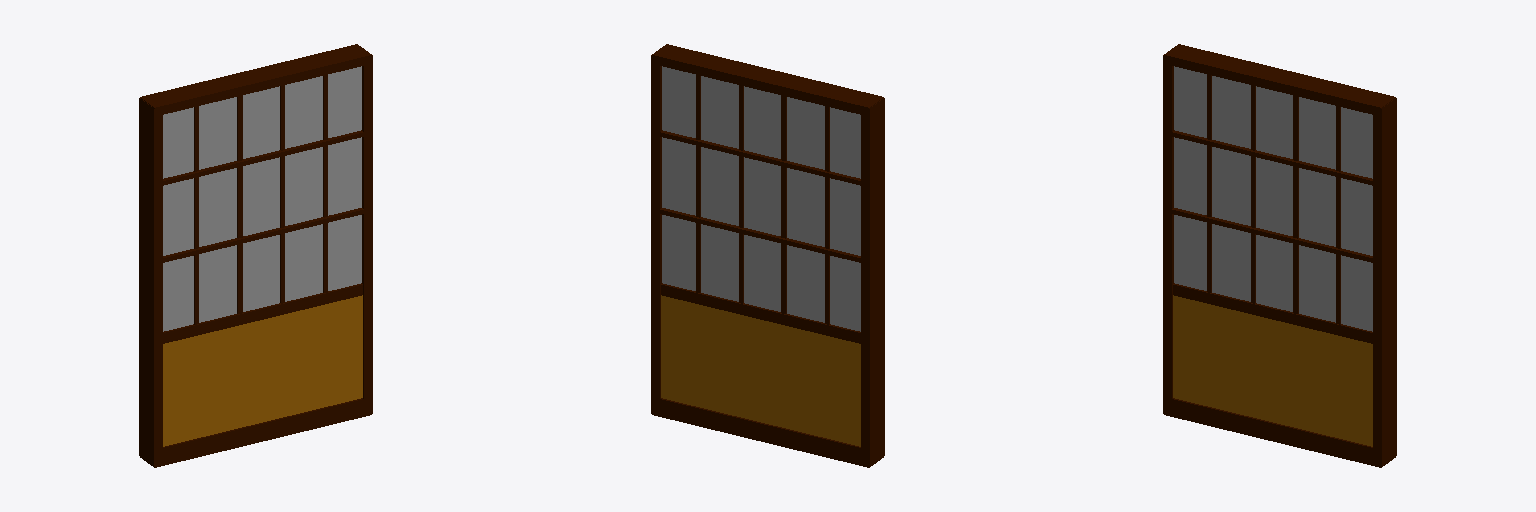
Rendered from geduan.obj.
3 views of the same model, side by side, from view 1: azimuth 30°, elevation 25°; view 2: azimuth 150°, elevation 25°; view 3: azimuth 330°, elevation 25° (orthographic).
Visible parts, largest first — view 1: geduan_Cube.008; view 2: geduan_Cube.008; view 3: geduan_Cube.008.
Part boxes in pixels (x1,y1,x2,y2): geduan_Cube.008: (139, 44, 372, 467); geduan_Cube.008: (651, 44, 884, 467); geduan_Cube.008: (1163, 44, 1396, 467).
Bounding box in the file's own units: 5.1 × 8.04 × 0.6.